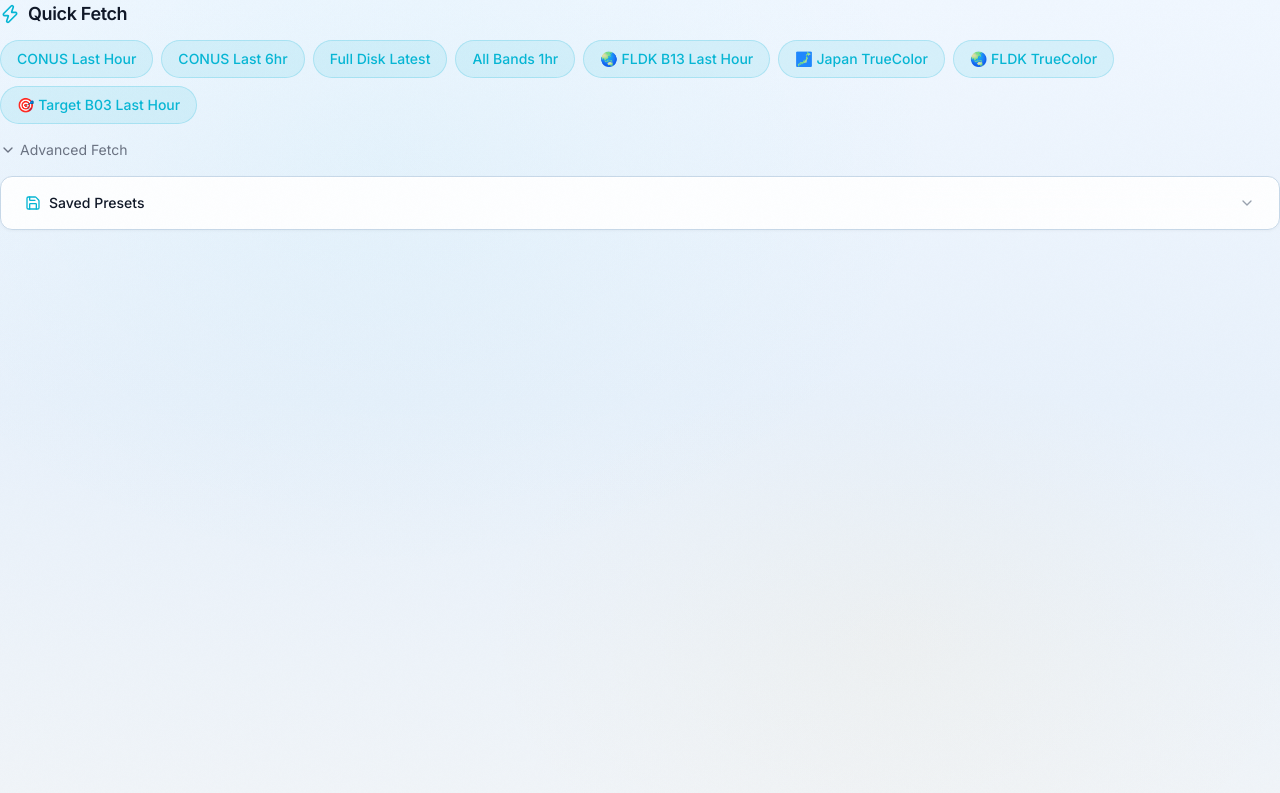
it: FetchTab Wizard › navigates to step 2 on Next
Click the button with test id "advanced-fetch-toggle" at coordinates (64, 150), box [0,140,128,160]
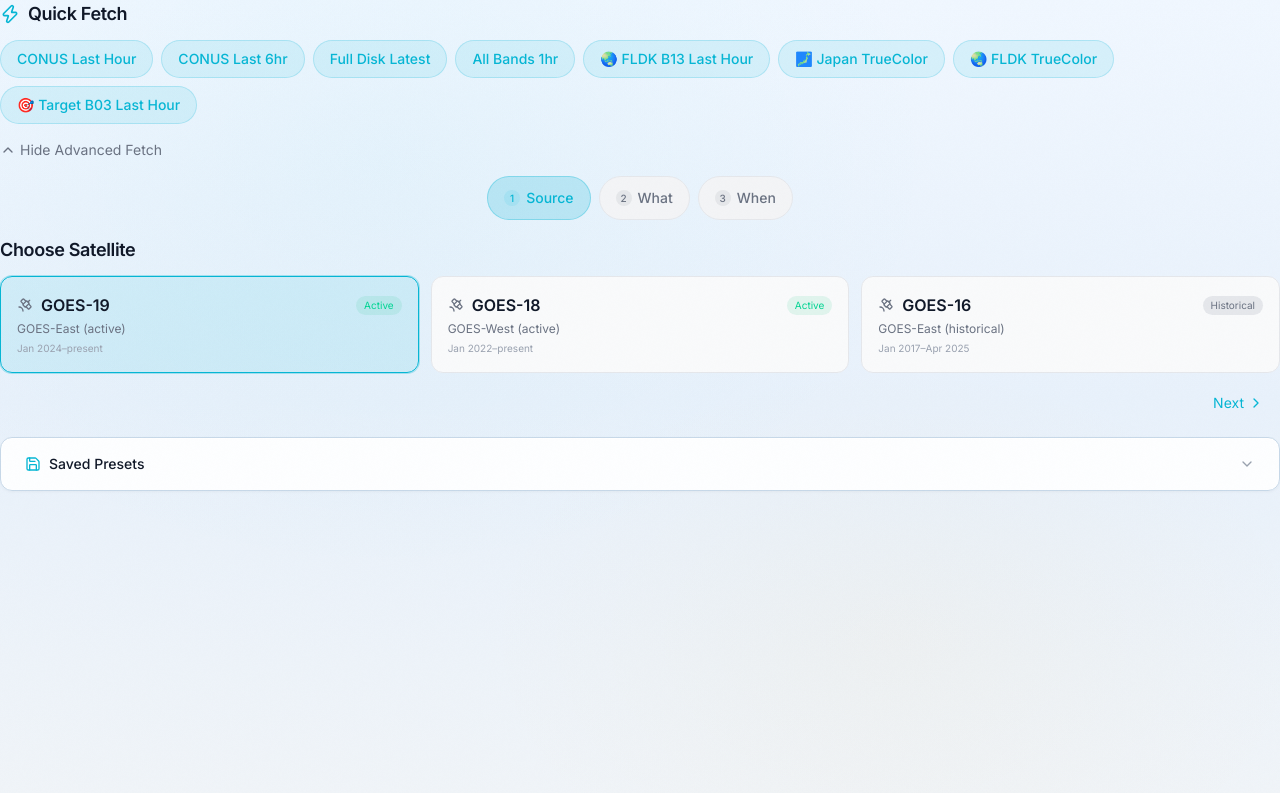
Now the heading "Choose Satellite" is shown, box [0,239,135,260]
Click the button "Next" at coordinates (1239, 403), box [1197,385,1279,421]
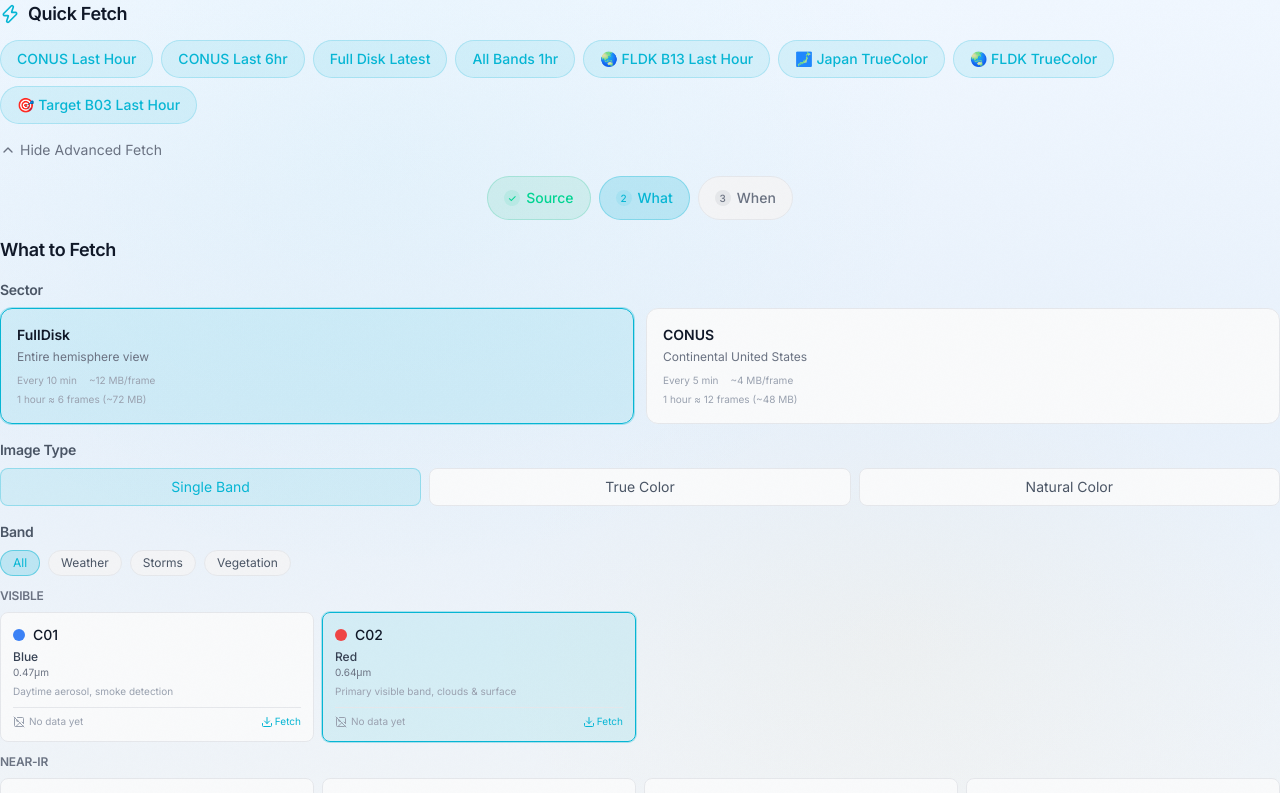
Now the heading "What to Fetch" is shown, box [0,239,116,260]
